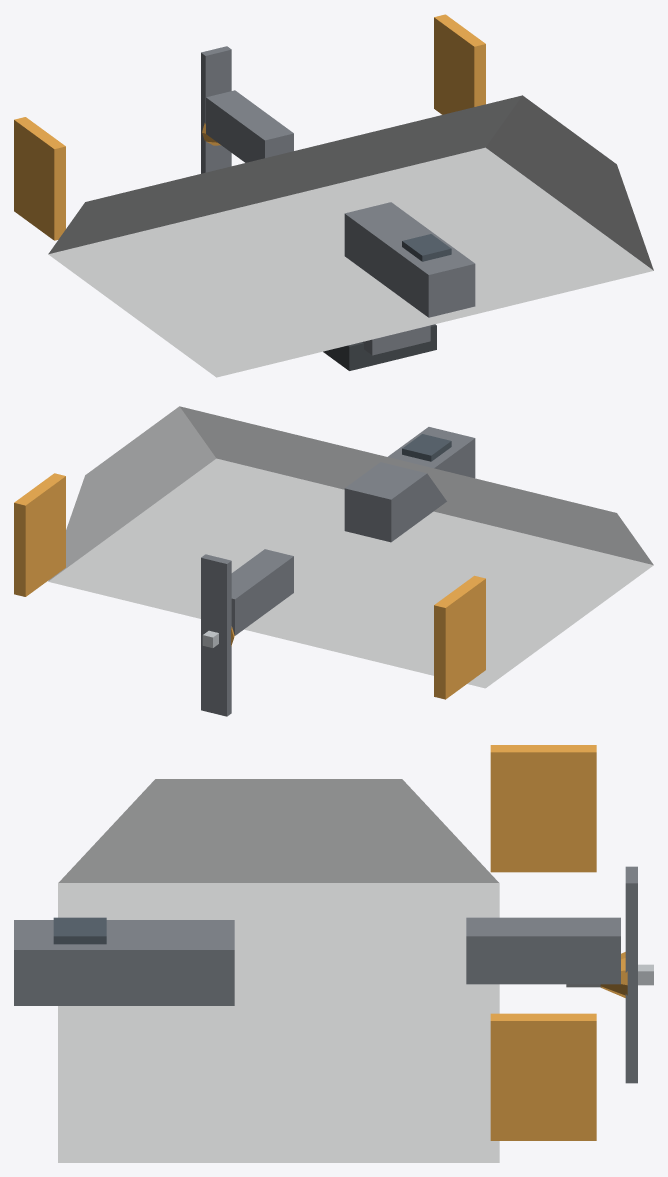
File: delta-wing-uav.glb
The picture shows the model from 3 angles, top to bottom: view 1: azimuth 30°, elevation 25°; view 2: azimuth 150°, elevation 25°; view 3: azimuth 270°, elevation 25°; orthographic projection. The views are drawn at different scales.
Parts seen in each view (by area): view 1: delta-wing-uav, prop-1/graphite; view 2: delta-wing-uav, prop-1/graphite; view 3: delta-wing-uav, prop-1/graphite.
Boxes of the visible parts, left/top/right/bottom form: delta-wing-uav: left=14, top=14, right=653, bottom=377; prop-1/graphite: left=201, top=46, right=231, bottom=173; delta-wing-uav: left=14, top=406, right=653, bottom=699; prop-1/graphite: left=201, top=554, right=231, bottom=716; delta-wing-uav: left=14, top=745, right=620, bottom=1162; prop-1/graphite: left=625, top=866, right=637, bottom=1083.
Bounding box in the file's own units: 1.5 × 0.59 × 1.45.
